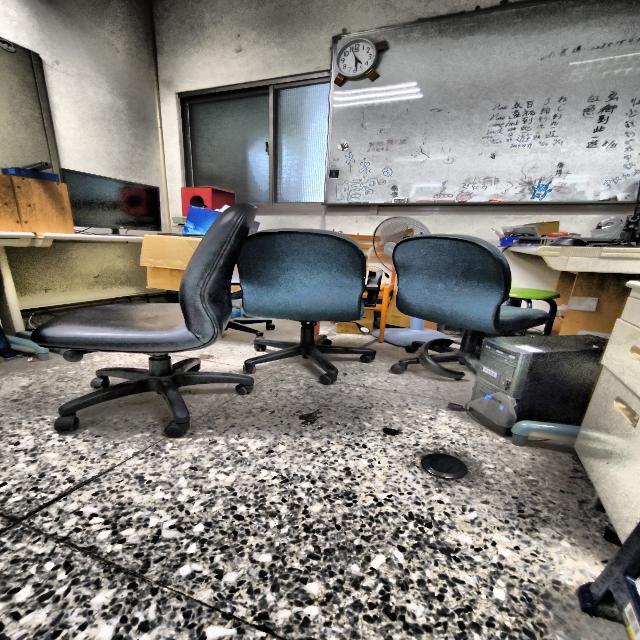cadeira: (44, 190, 257, 450), (390, 226, 549, 388), (240, 222, 376, 389)
